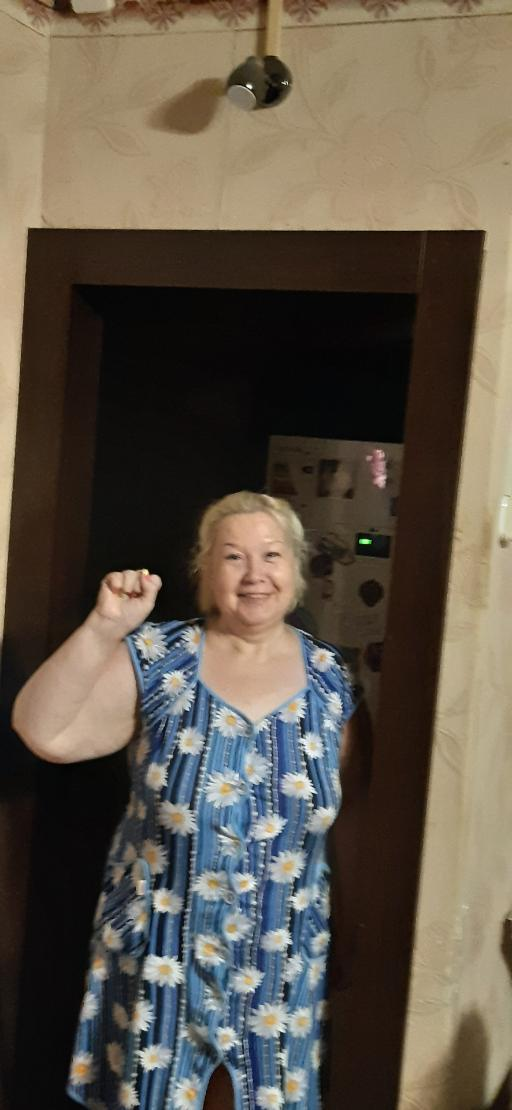fist: (92, 565, 163, 631)
